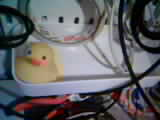duck: (11, 32, 69, 88)
